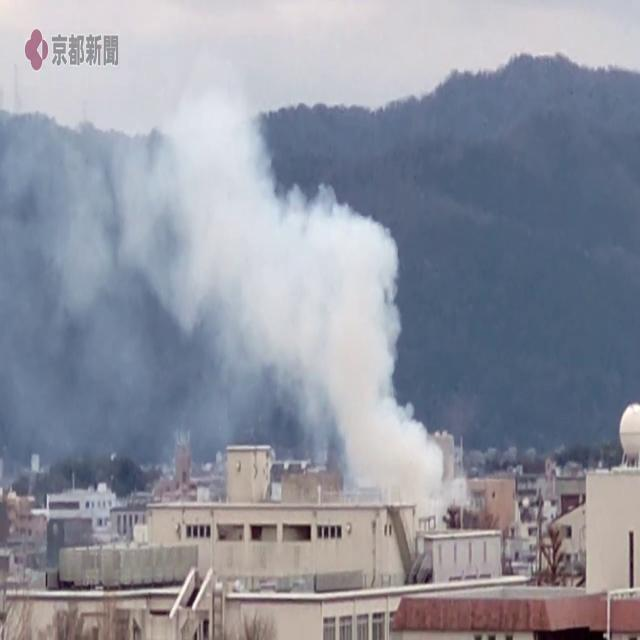Smoke: (0, 32, 419, 484)
